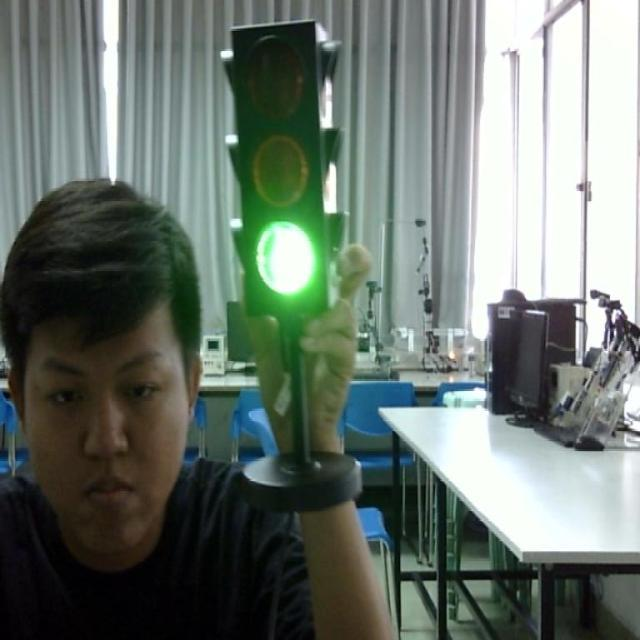green light: (250, 216, 328, 312)
